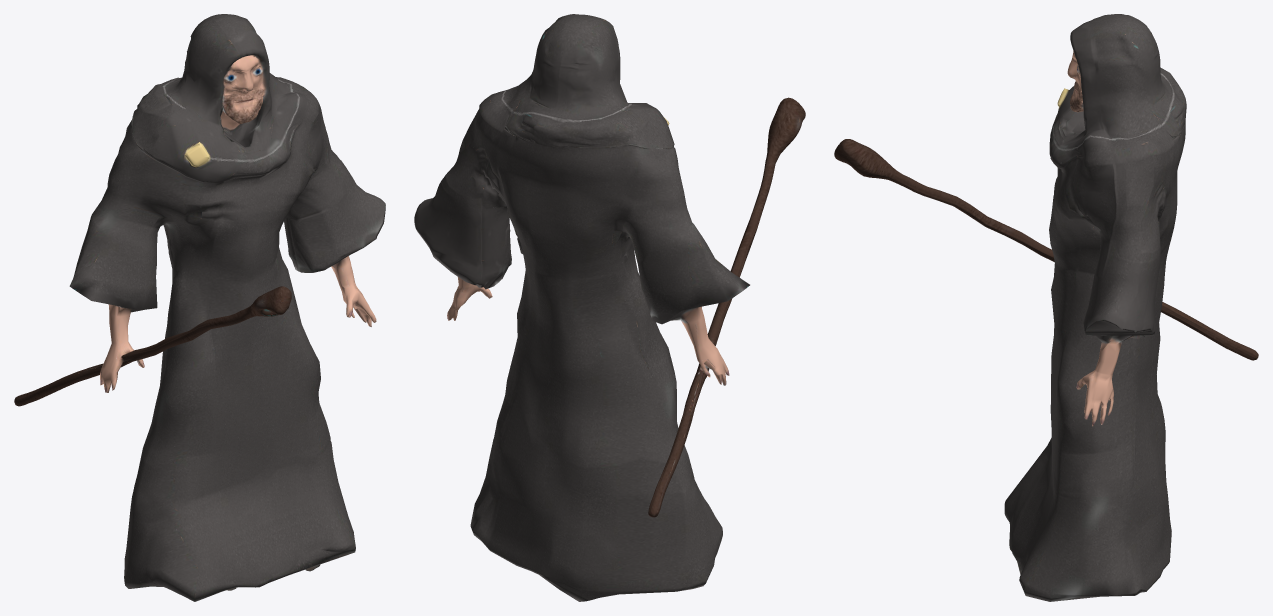
The model's file is mage (1).glb.
3 views of the same model, side by side, from view 1: azimuth 30°, elevation 25°; view 2: azimuth 150°, elevation 25°; view 3: azimuth 270°, elevation 25° (orthographic). The views are drawn at different scales.
Visible parts, largest first — view 1: polySurface1; view 2: polySurface1; view 3: polySurface1.
Boxes of the visible parts, x1=… form: polySurface1: x1=14, y1=14, x2=385, y2=601; polySurface1: x1=414, y1=14, x2=805, y2=601; polySurface1: x1=834, y1=14, x2=1258, y2=601.
Bounding box in the file's own units: 1.21 × 2 × 1.37.
1 material, 1 textured.
